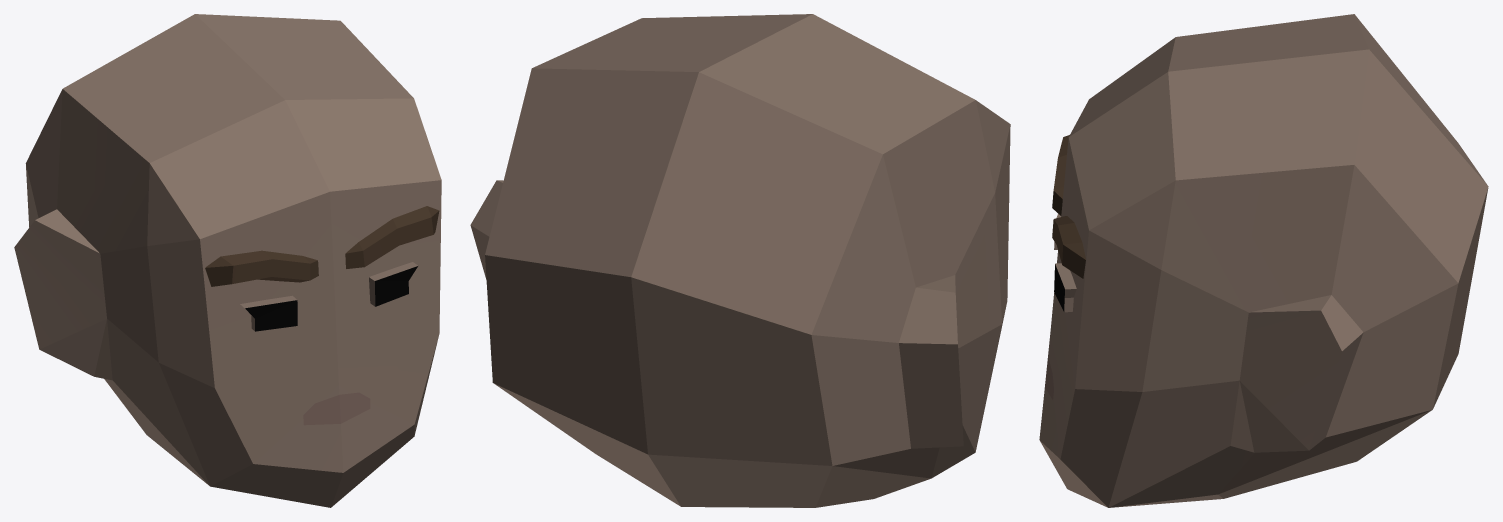
File: light_brown_woman_head.fbx
The picture shows the model from 3 angles, left to right: view 1: azimuth 30°, elevation 25°; view 2: azimuth 150°, elevation 25°; view 3: azimuth 270°, elevation 25°; orthographic projection. The views are drawn at different scales.
Visible parts, largest first — view 1: Character_MilitaryFemale_01; view 2: Character_MilitaryFemale_01; view 3: Character_MilitaryFemale_01.
Boxes of the visible parts, x1,y1,x2,y2 form: Character_MilitaryFemale_01: [14, 14, 441, 507]; Character_MilitaryFemale_01: [470, 14, 1010, 507]; Character_MilitaryFemale_01: [1039, 14, 1488, 507].
Size of the model in its own units: 2831 by 2797 by 2562.
